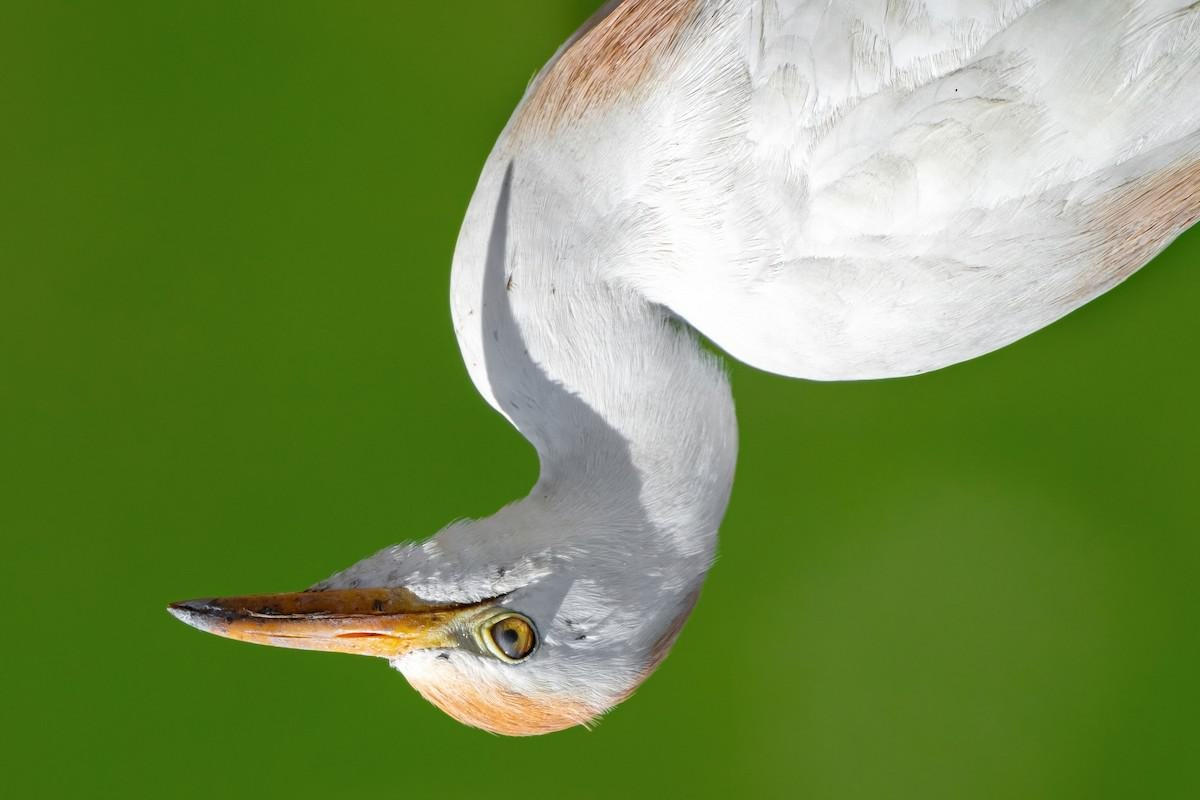egret: (159, 1, 1200, 741)
